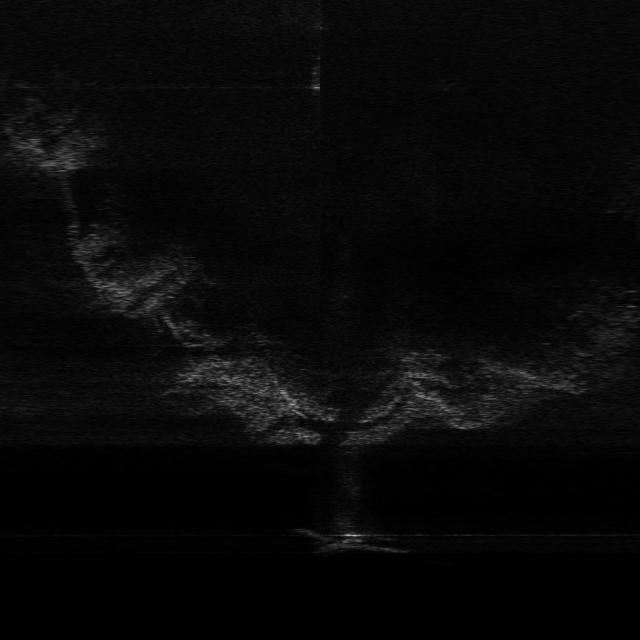plane: (293, 523, 416, 555)
